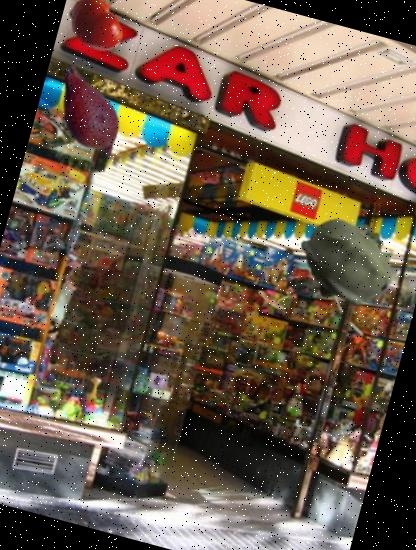Kohlrabi: (288, 202, 407, 322)
Salak: (29, 54, 150, 176)
Tomato: (59, 0, 132, 61)
